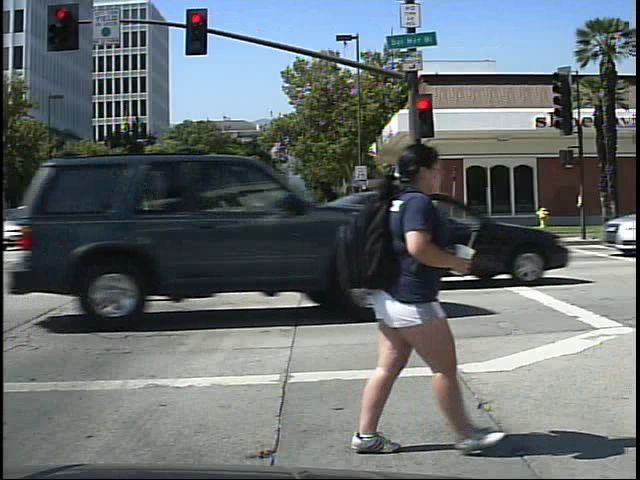person: (318, 132, 484, 459)
